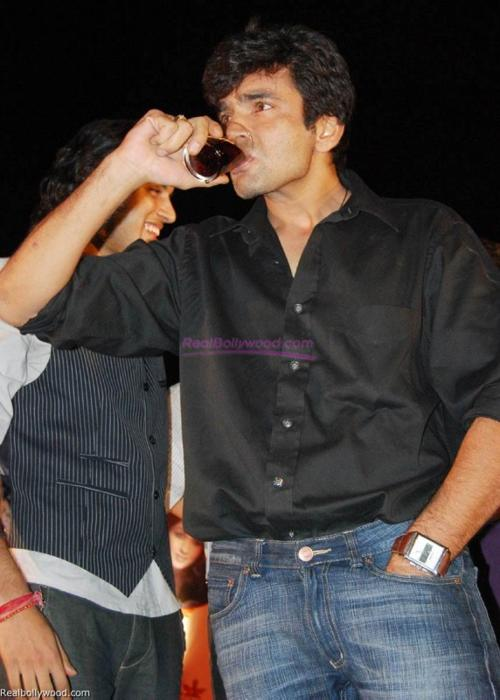person: (1, 14, 500, 698)
